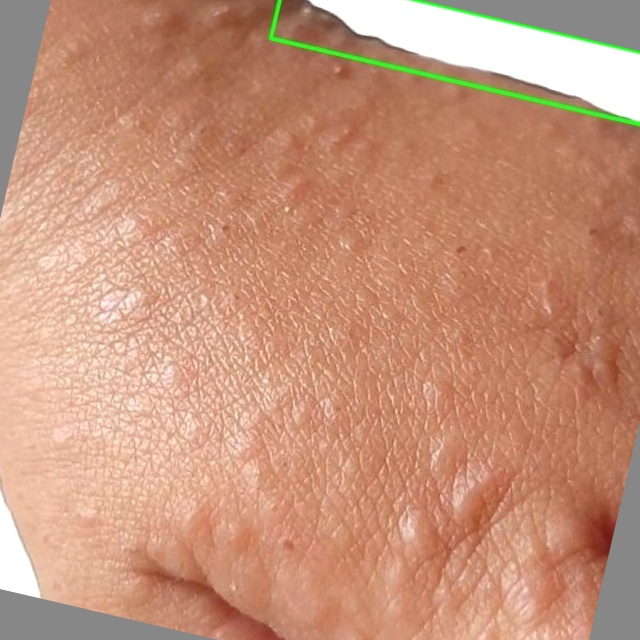Contact Dermatitis: (270, 0, 639, 124)
